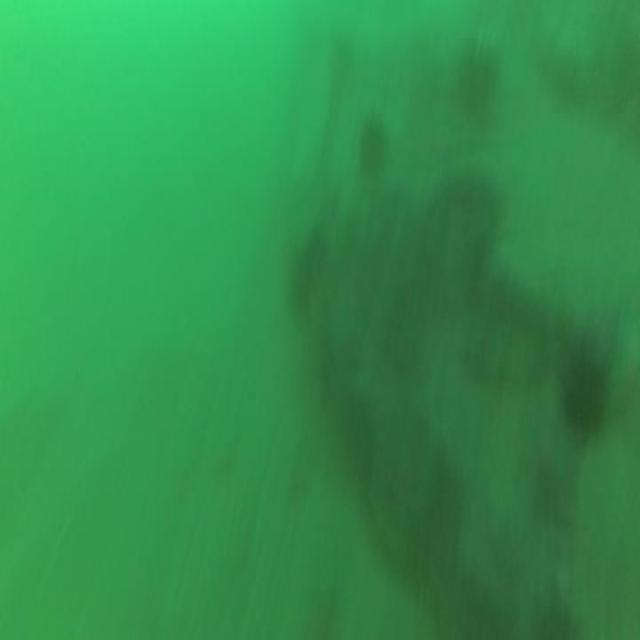echinus: (558, 335, 612, 450), (357, 112, 385, 185)
